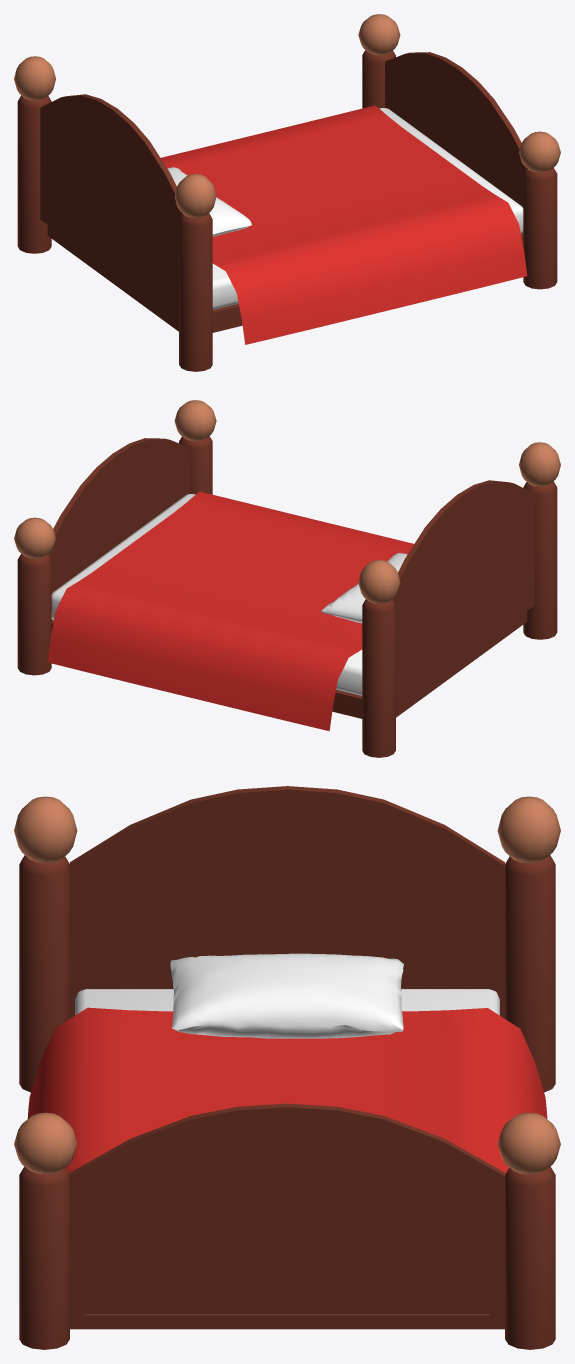
Rendered from Bed.fbx.
3 views of the same model, one above another, from view 1: azimuth 30°, elevation 25°; view 2: azimuth 150°, elevation 25°; view 3: azimuth 270°, elevation 25° (orthographic). The views are drawn at different scales.
Parts seen in each view (by area): view 1: Cube; view 2: Cube; view 3: Cube.
Part boxes in pixels (left/top/right/bottom): Cube: left=14, top=14, right=560, bottom=371; Cube: left=14, top=400, right=560, bottom=757; Cube: left=14, top=786, right=560, bottom=1349.
Bounding box in the file's own units: 435 × 216 × 359.
